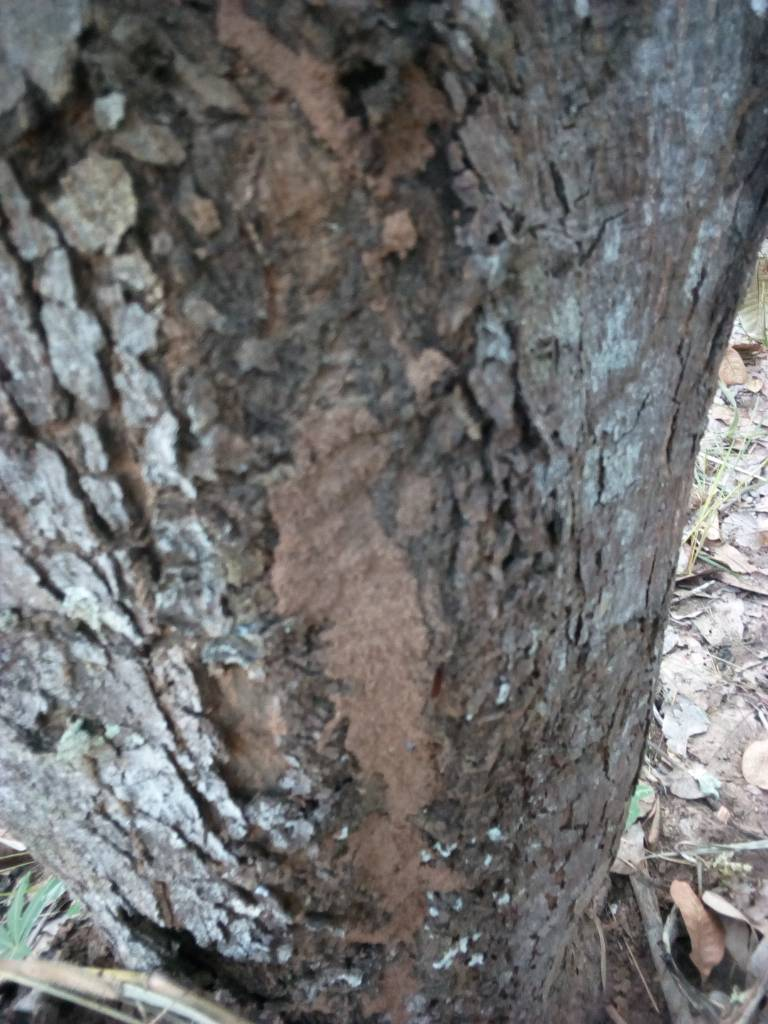Termites: (72, 35, 585, 986)
